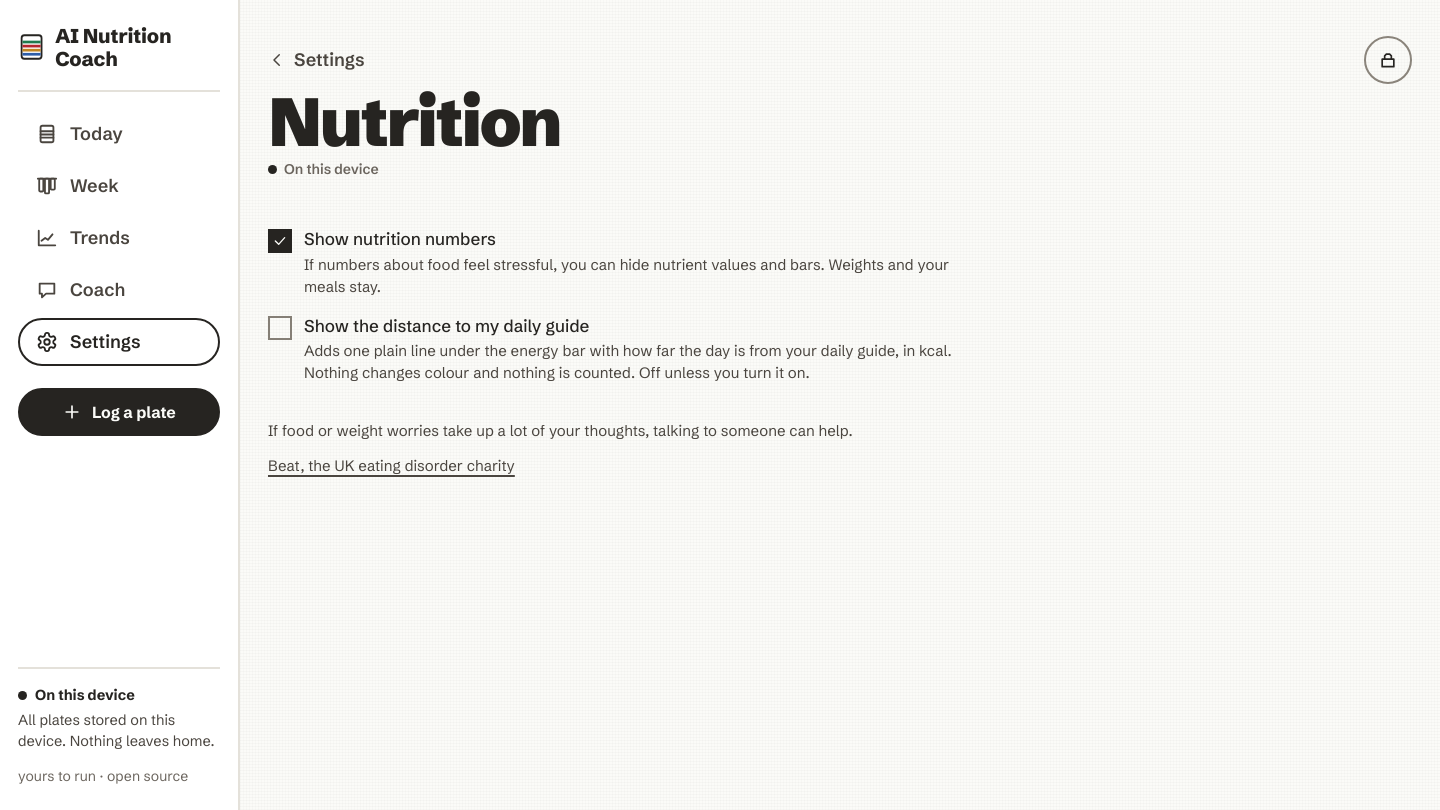
Test case: NutritionScreen › a distance switch that cannot be kept stays where it was, and says so
Click the switch labelled "Show the distance to my daily guide" at (624, 349), box [268,306,980,392]
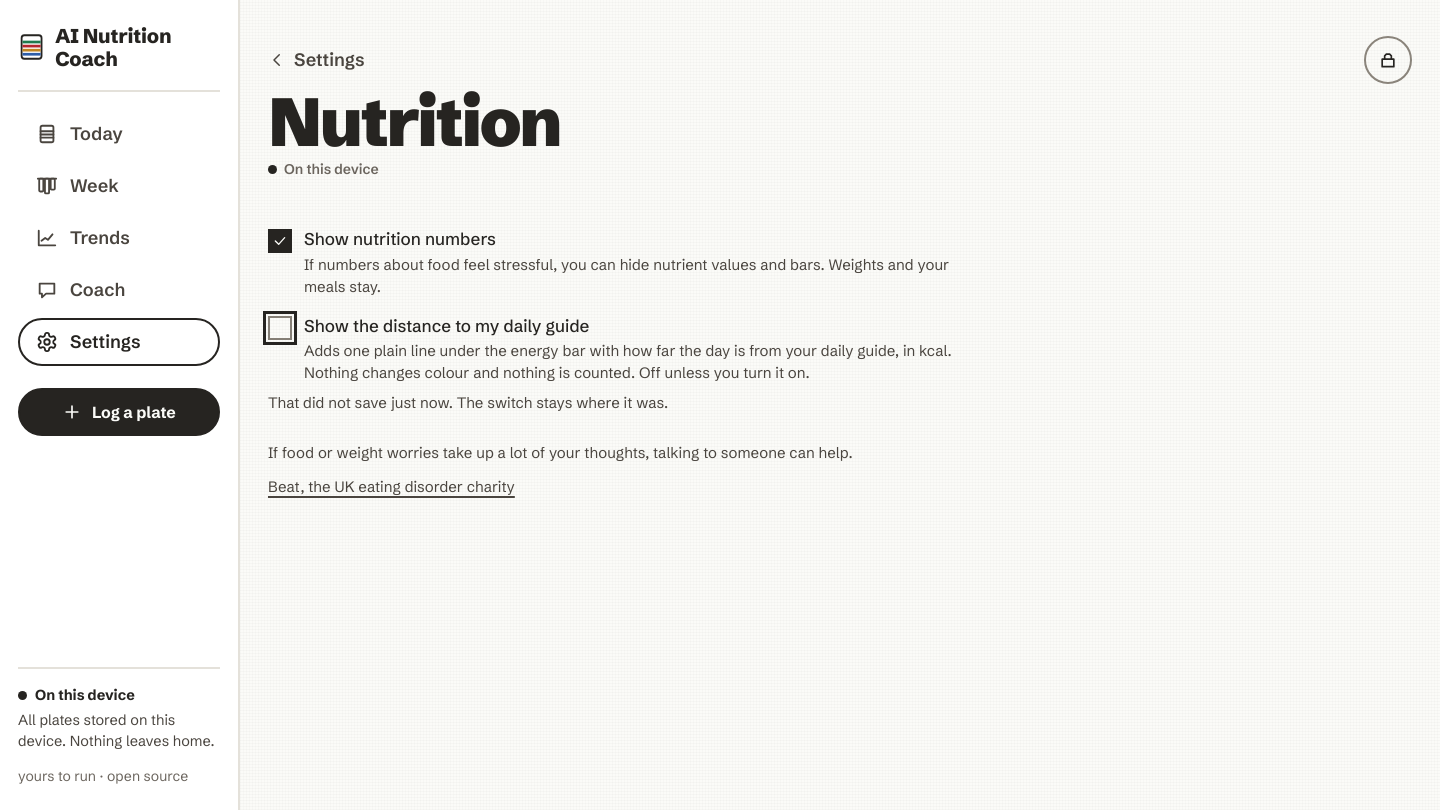
Expected: the text "That did not save just now. The switch stays where it was." is shown, [268,393,668,412]
